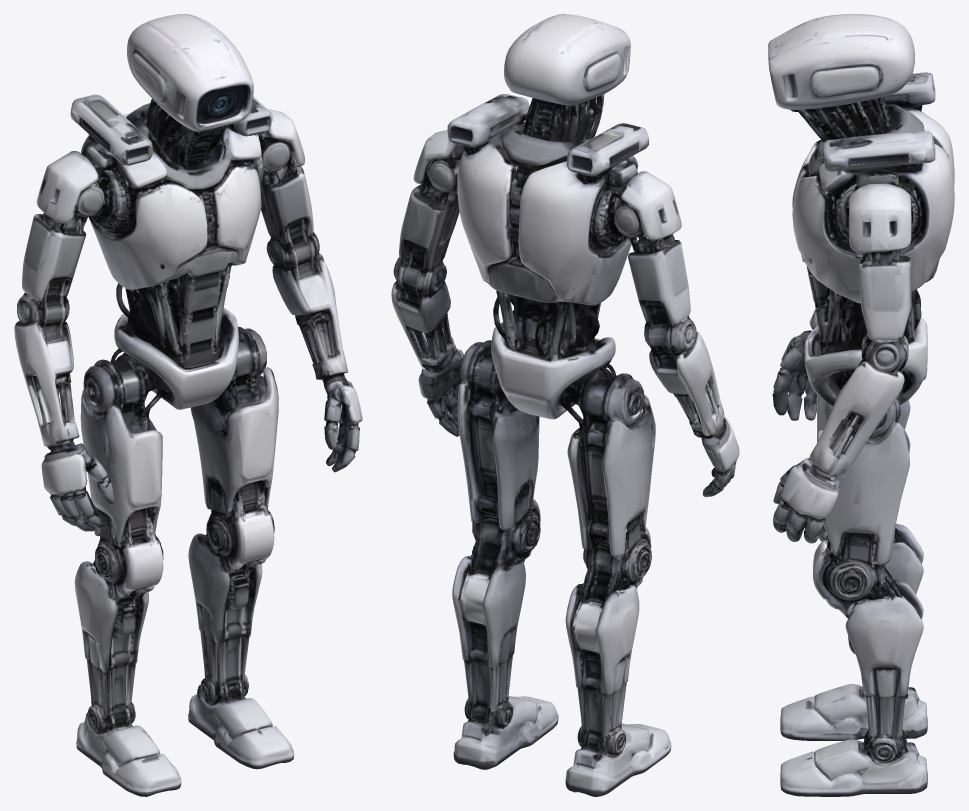
File: robot-3d.glb
3 views of the same model, side by side, from view 1: azimuth 30°, elevation 25°; view 2: azimuth 150°, elevation 25°; view 3: azimuth 270°, elevation 25° (orthographic).
Visible parts, largest first — view 1: node_0; view 2: node_0; view 3: node_0.
Boxes of the visible parts, <box> form: node_0: <box>14,14,362,796</box>; node_0: <box>391,14,739,796</box>; node_0: <box>768,14,954,796</box>.
Bounding box in the file's own units: 0.5099 × 1.16 × 0.2656.
1 material, 1 textured.
